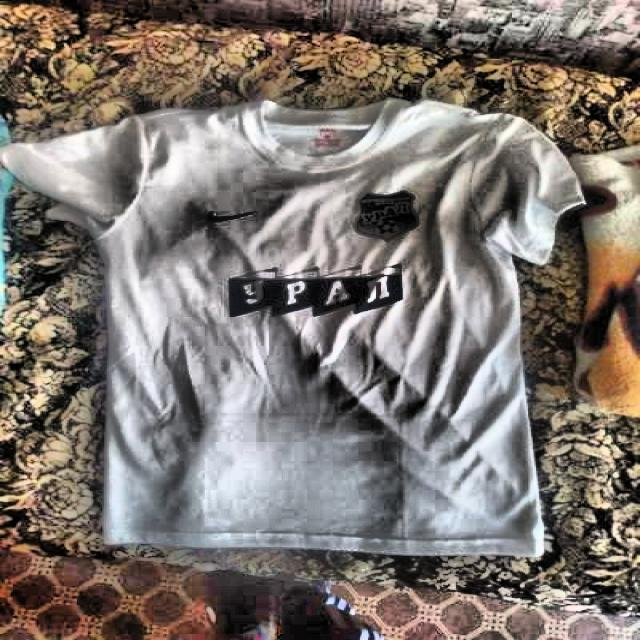clothes: (4, 99, 582, 566)
